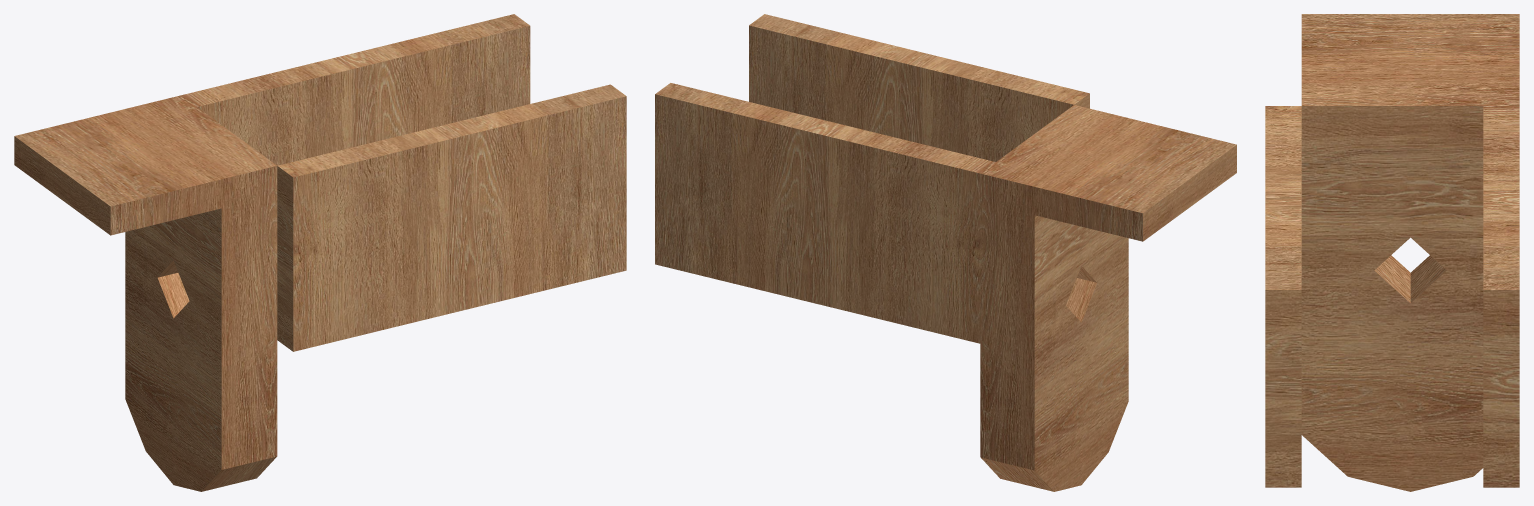
File: 3319_gpt-only.glb
3 renders of one model, left to right at view 1: azimuth 30°, elevation 25°; view 2: azimuth 150°, elevation 25°; view 3: azimuth 270°, elevation 25°, orthographic. The views are drawn at different scales.
Visible parts, largest first — view 1: ParentEmpty; view 2: ParentEmpty; view 3: ParentEmpty.
Boxes of the visible parts, bbox=[...] form: ParentEmpty: bbox=[14, 14, 626, 491]; ParentEmpty: bbox=[655, 14, 1236, 491]; ParentEmpty: bbox=[1265, 14, 1519, 491].
Size of the model in its own units: 1 by 0.6518 by 0.3889.
Materials: 1 (1 with a texture image).
